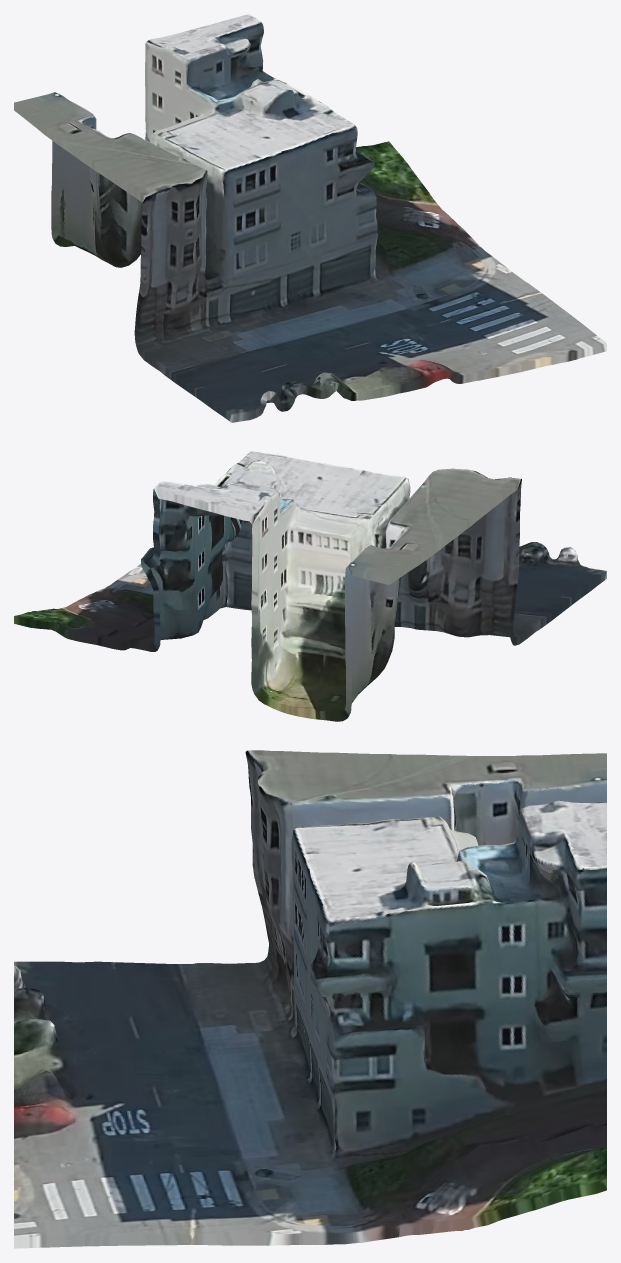
Rendered from z20-167719-405196-h0-yup-uvflip-v3-world.glb.
3 views of the same model, one above another, from view 1: azimuth 30°, elevation 25°; view 2: azimuth 150°, elevation 25°; view 3: azimuth 270°, elevation 25° (orthographic). The views are drawn at different scales.
Bounding box in the file's own units: 30.16 × 16.56 × 30.32.
Materials: 1 (1 with a texture image).
